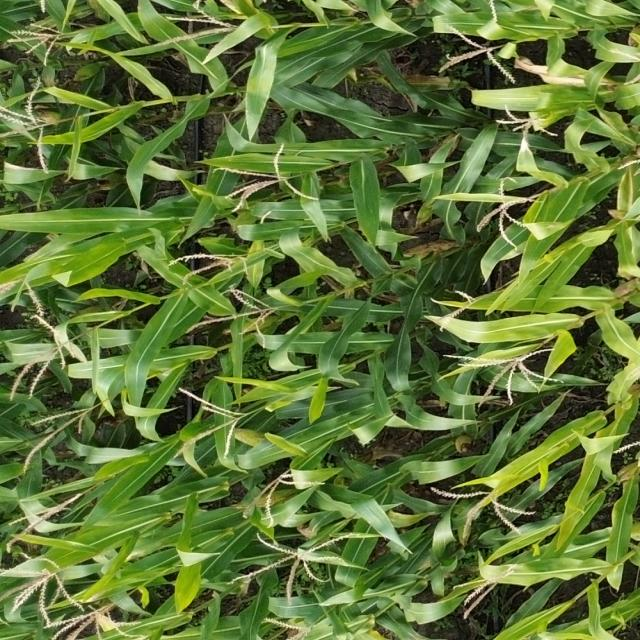northern-leaf-blight: (224, 0, 267, 18)
southern-leaf-blight: (346, 233, 384, 270), (378, 56, 412, 87), (607, 121, 640, 152)
